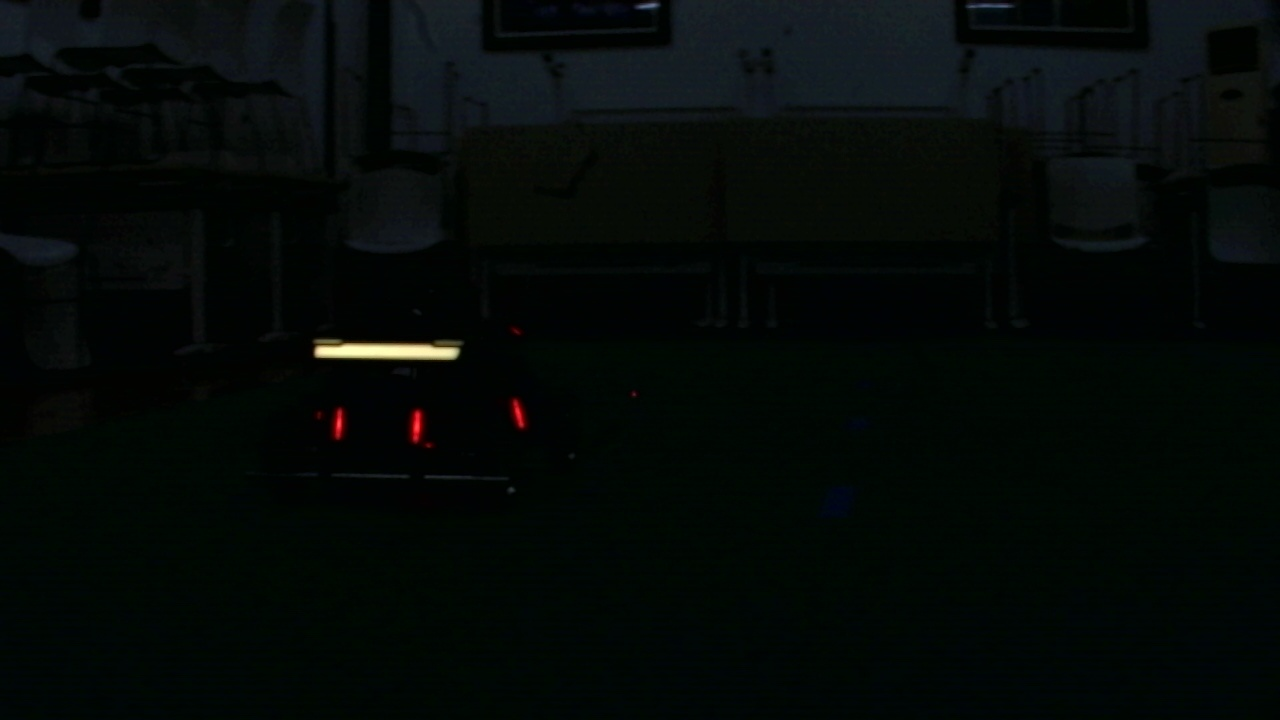lamp: (407, 403, 423, 443), (511, 395, 527, 430), (333, 402, 341, 439)
pair1: (334, 403, 422, 441)
